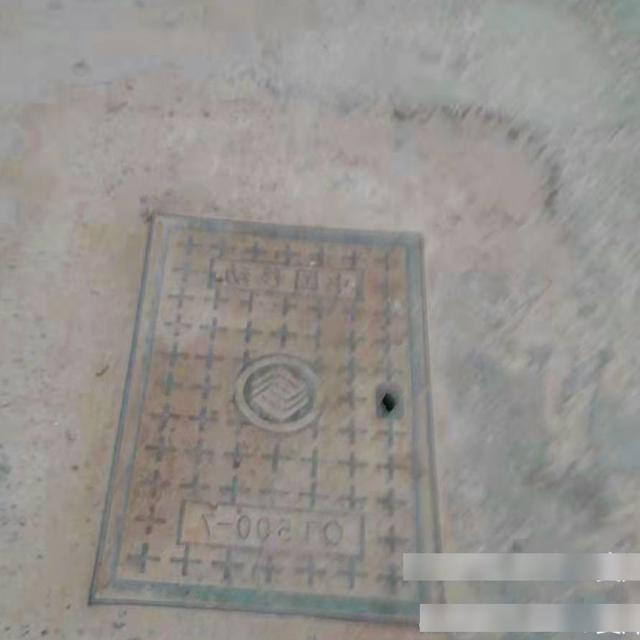good: (90, 210, 474, 623)
